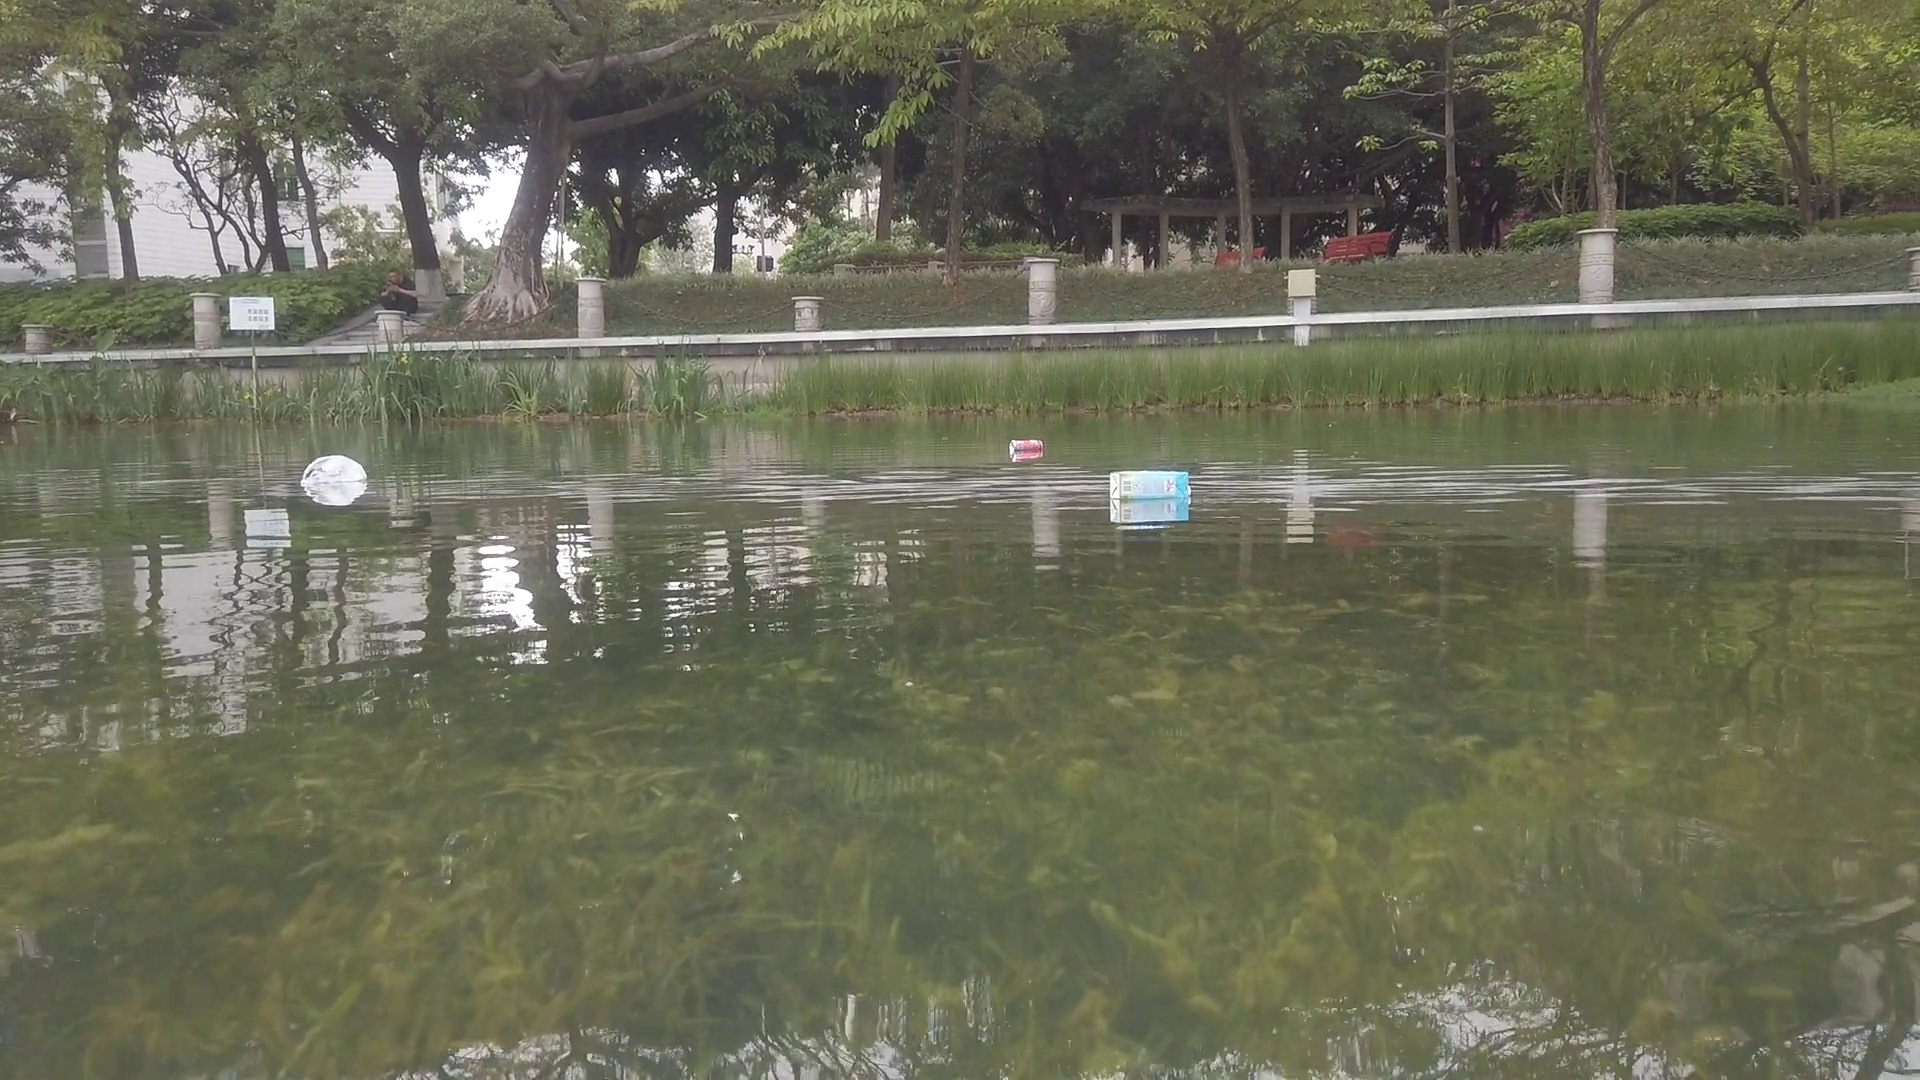bottle: (1011, 440, 1044, 456)
carton: (1112, 472, 1189, 498)
plastic: (298, 454, 365, 483)
